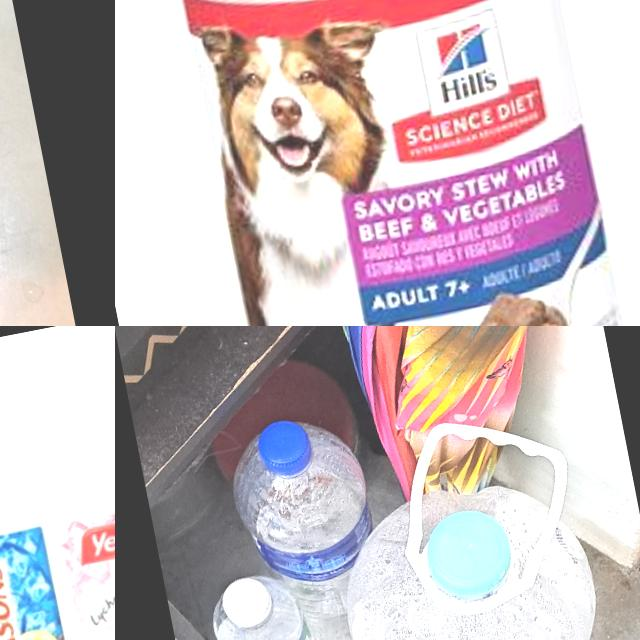caixinha: (0, 520, 89, 640), (63, 503, 115, 640)
garrafa plástica: (324, 461, 626, 640), (218, 410, 394, 624), (201, 562, 321, 640)
lata: (161, 0, 640, 326)
tampa plástica: (422, 504, 520, 602), (216, 567, 280, 633), (254, 414, 312, 474)
